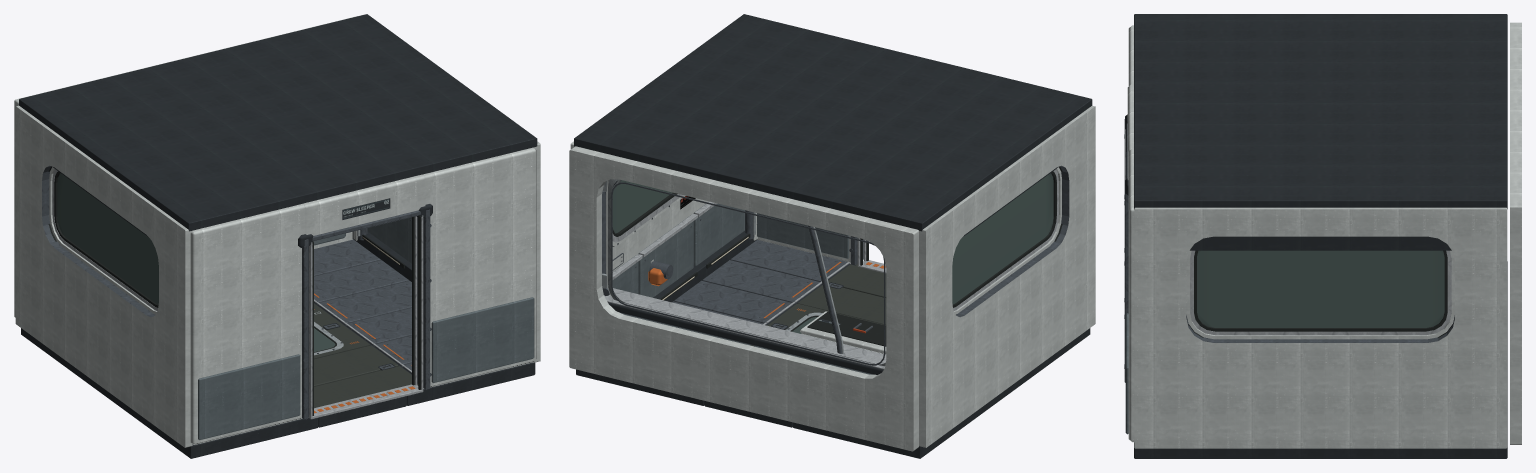
File: shell.fbx
The picture shows the model from 3 angles, left to right: view 1: azimuth 30°, elevation 25°; view 2: azimuth 150°, elevation 25°; view 3: azimuth 270°, elevation 25°; orthographic projection. The views are drawn at different scales.
Parts seen in each view (by area): view 1: SM_shell; view 2: SM_shell; view 3: SM_shell.
Boxes of the visible parts, x1=… form: SM_shell: x1=14, y1=14, x2=540, y2=458; SM_shell: x1=569, y1=14, x2=1095, y2=458; SM_shell: x1=1124, y1=14, x2=1521, y2=458.
Bounding box in the file's own units: 4.59 × 2.92 × 4.05.
15 materials, 12 textured.
